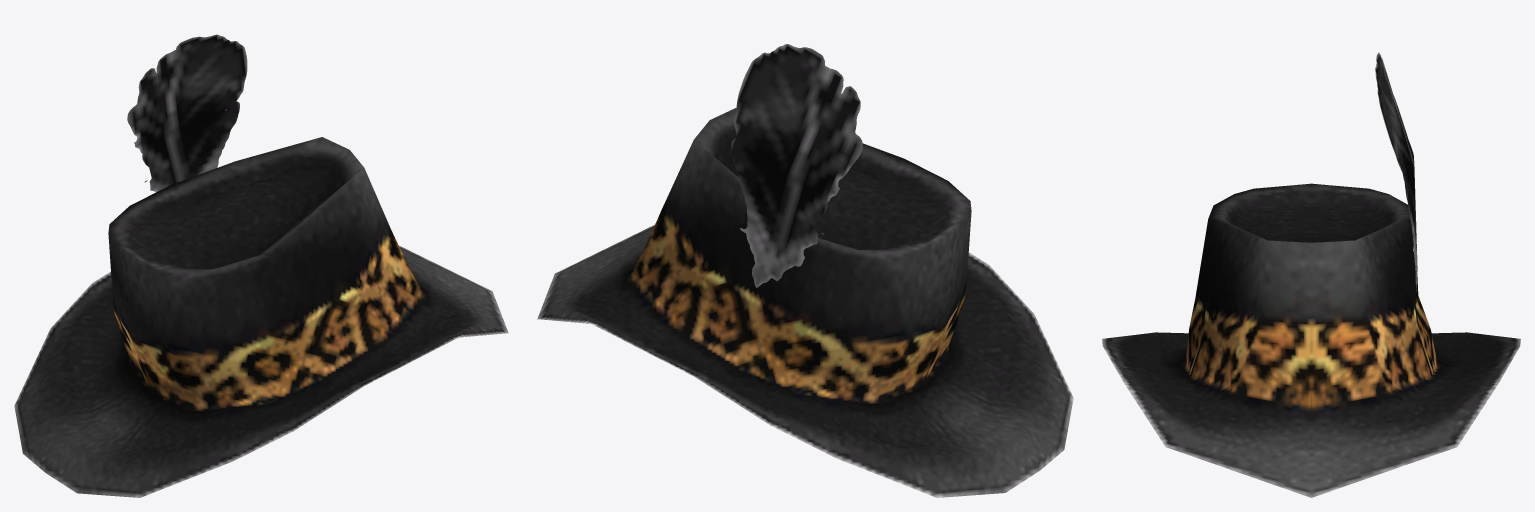
File: hat_0450010.FBX
3 renders of one model, left to right at view 1: azimuth 30°, elevation 25°; view 2: azimuth 150°, elevation 25°; view 3: azimuth 270°, elevation 25°, orthographic. The views are drawn at different scales.
Visible parts, largest first — view 1: hat_0450010; view 2: hat_0450010; view 3: hat_0450010.
Part boxes in pixels (x1=…): hat_0450010: x1=14, y1=34, x2=508, y2=497; hat_0450010: x1=537, y1=44, x2=1073, y2=497; hat_0450010: x1=1102, y1=53, x2=1520, y2=497.
Size of the model in its own units: 45.83 by 37.44 by 35.81.
